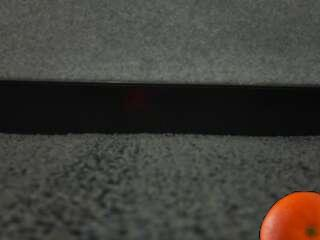Orange: (259, 191, 320, 240)
